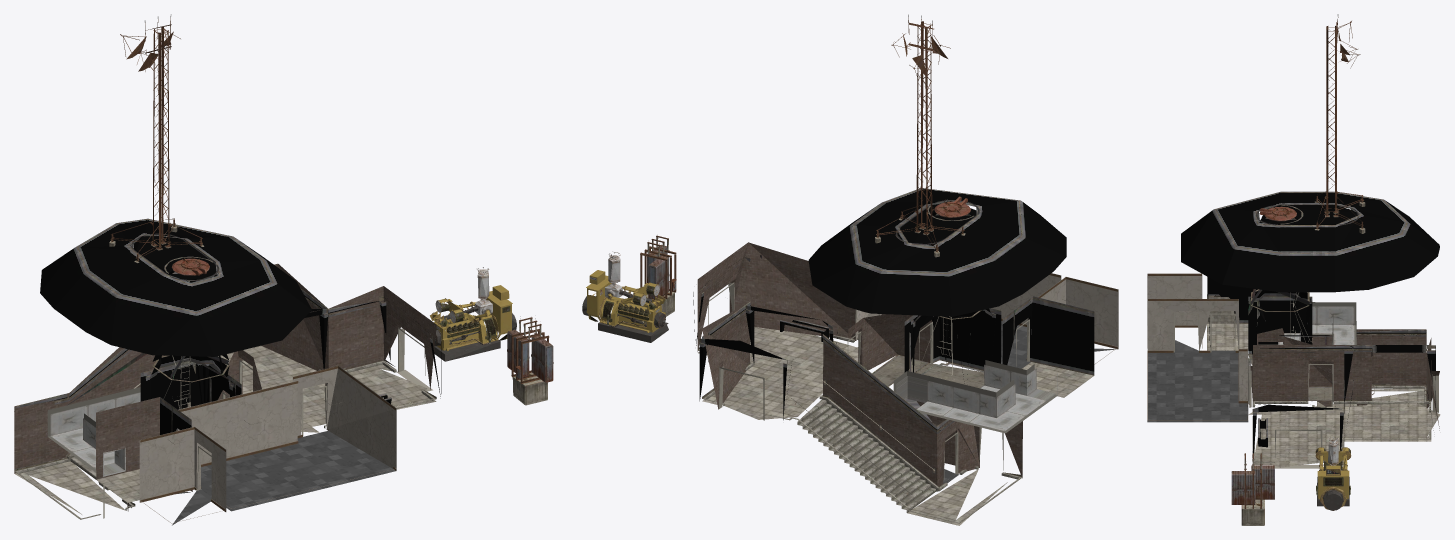
File: entrance_bunker_b-map.glb
3 renders of one model, left to right at view 1: azimuth 30°, elevation 25°; view 2: azimuth 150°, elevation 25°; view 3: azimuth 270°, elevation 25°, orthographic. The views are drawn at different scales.
Parts seen in each view (by area): view 1: stairwell_top_country_b_LOD0, antena_helipad_mast_LOD0, diesel_engine_LOD0, substation_c_LOD0; view 2: stairwell_top_country_b_LOD0, diesel_engine_LOD0, antena_helipad_mast_LOD0, substation_c_LOD0; view 3: stairwell_top_country_b_LOD0, antena_helipad_mast_LOD0, diesel_engine_LOD0, substation_c_LOD0, bunker_hatch.
Part boxes in pixels (<box>): stairwell_top_country_b_LOD0: <box>14,218,441,525</box>; antena_helipad_mast_LOD0: <box>109,14,549,405</box>; diesel_engine_LOD0: <box>430,267,516,361</box>; substation_c_LOD0: <box>507,316,553,382</box>; stairwell_top_country_b_LOD0: <box>693,188,1118,525</box>; diesel_engine_LOD0: <box>582,251,668,342</box>; antena_helipad_mast_LOD0: <box>640,14,965,316</box>; substation_c_LOD0: <box>647,237,676,299</box>; stairwell_top_country_b_LOD0: <box>1147,191,1440,468</box>; antena_helipad_mast_LOD0: <box>1241,14,1365,525</box>; diesel_engine_LOD0: <box>1315,437,1351,510</box>; substation_c_LOD0: <box>1231,454,1274,504</box>; bunker_hatch: <box>1259,206,1296,221</box>.
Size of the model in its own units: 24.86 by 24.59 by 16.
Materials: 21 (20 with a texture image).
